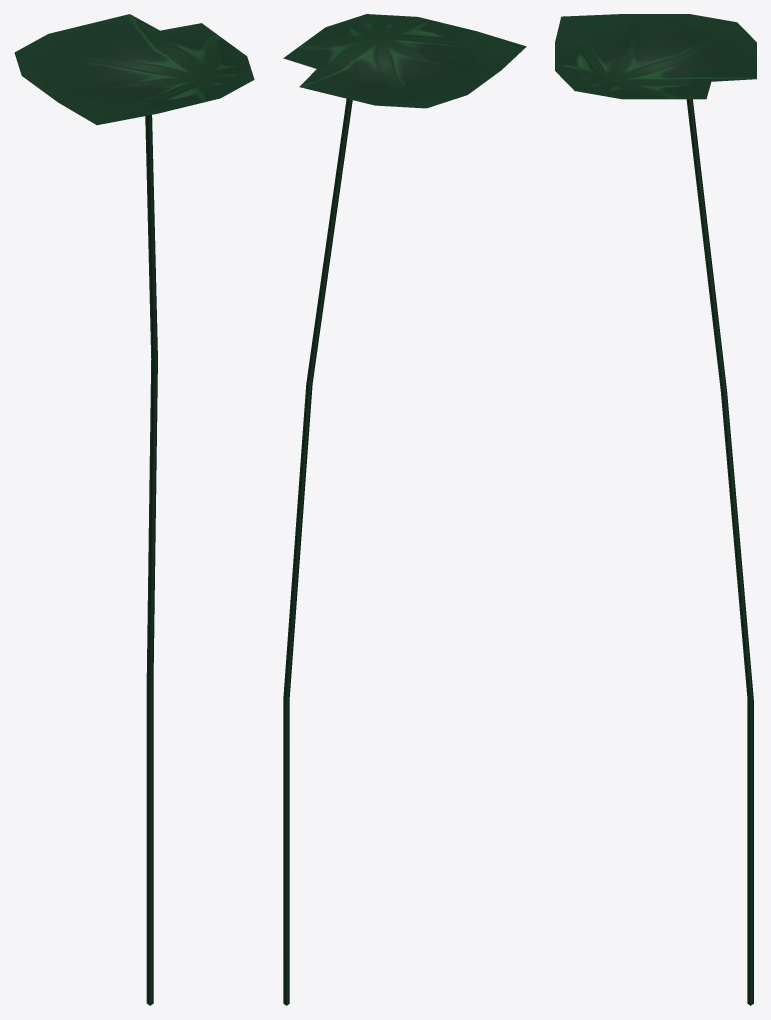
The model's file is waterlily.obj.
3 renders of one model, left to right at view 1: azimuth 30°, elevation 25°; view 2: azimuth 150°, elevation 25°; view 3: azimuth 270°, elevation 25°, orthographic. The views are drawn at different scales.
Parts seen in each view (by area): view 1: Plane001, Cylinder001; view 2: Plane001, Cylinder001; view 3: Plane001, Cylinder001.
Boxes of the visible parts, x1,y1,x2,y2 form: Plane001: [14, 14, 254, 125]; Cylinder001: [145, 115, 157, 1005]; Plane001: [283, 14, 526, 108]; Cylinder001: [283, 99, 352, 1005]; Plane001: [555, 14, 756, 99]; Cylinder001: [686, 99, 753, 1005].
Bounding box in the file's own units: 48.87 × 245 × 48.87.
